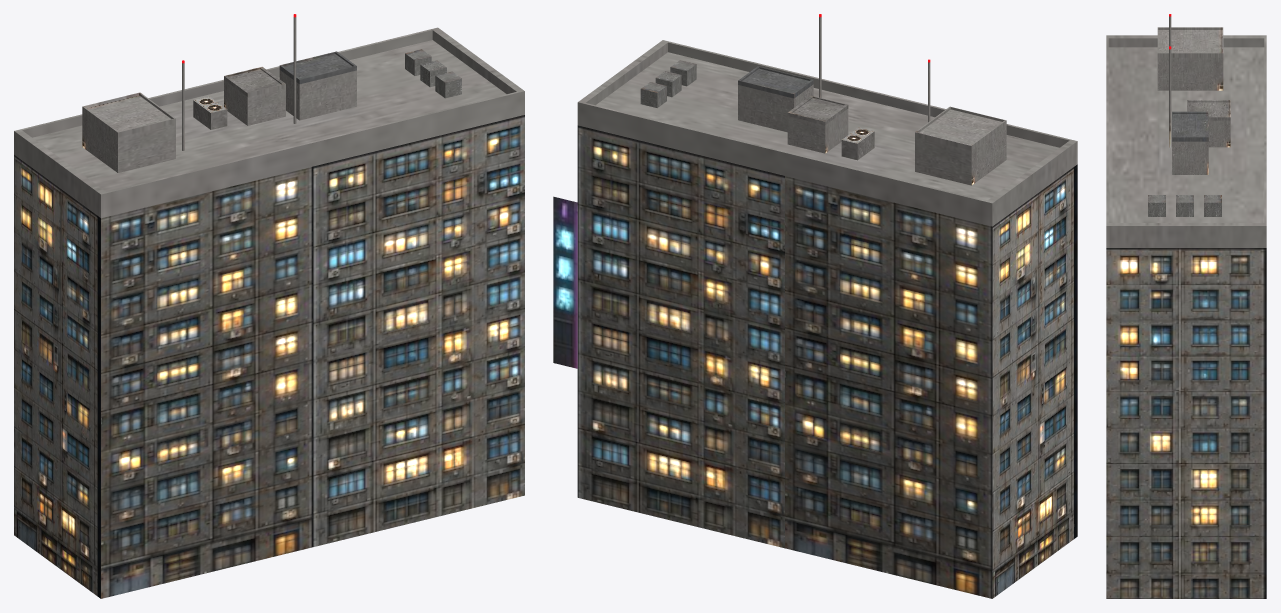
File: cyberpunk-residential-building-7.glb
The picture shows the model from 3 angles, left to right: view 1: azimuth 30°, elevation 25°; view 2: azimuth 150°, elevation 25°; view 3: azimuth 270°, elevation 25°; orthographic projection. The views are drawn at different scales.
Visible parts, largest first — view 1: cyberpunk-residential-building-7; view 2: cyberpunk-residential-building-7; view 3: cyberpunk-residential-building-7.
Boxes of the visible parts, bbox=[...] form: cyberpunk-residential-building-7: bbox=[14, 14, 524, 598]; cyberpunk-residential-building-7: bbox=[553, 14, 1077, 598]; cyberpunk-residential-building-7: bbox=[1106, 14, 1266, 598].
Bounding box in the file's own units: 89.05 × 94.82 × 29.7.
Materials: 2 (1 with a texture image).
